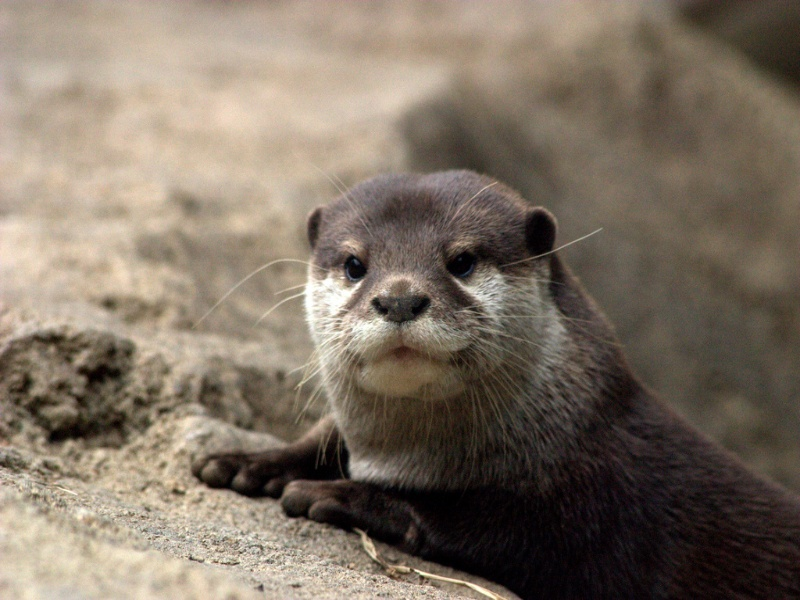minkish: (181, 170, 795, 600)
